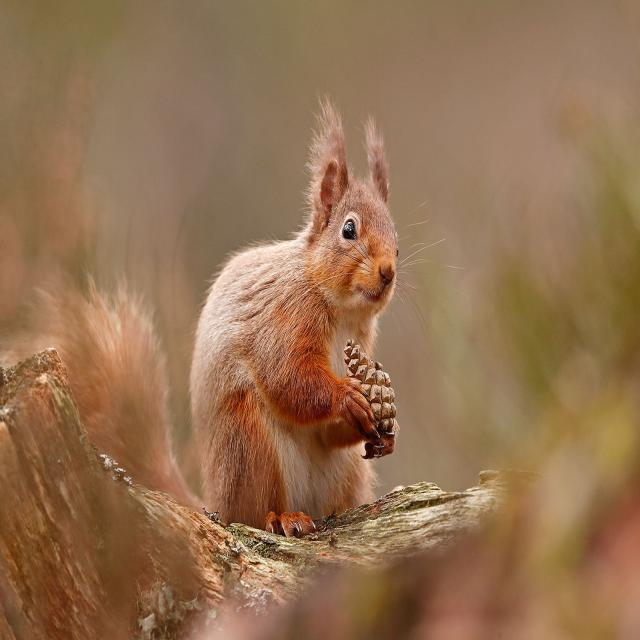Squirrel: (104, 102, 399, 536)
